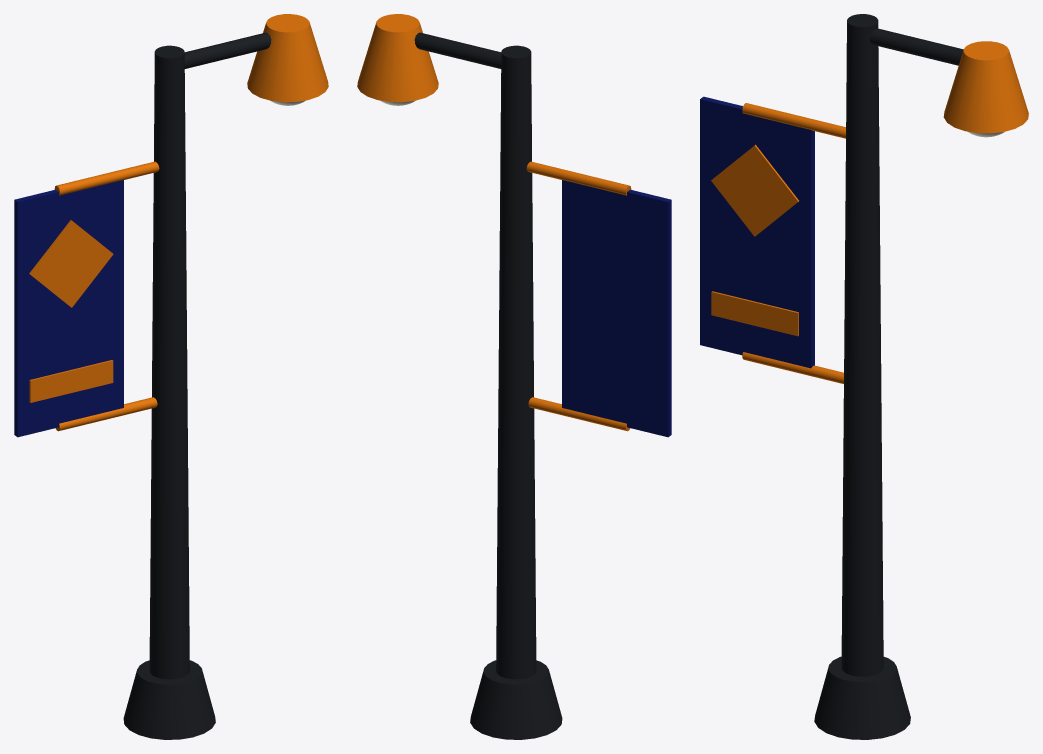
Rendered from lamppost.obj.
3 views of the same model, side by side, from view 1: azimuth 30°, elevation 25°; view 2: azimuth 150°, elevation 25°; view 3: azimuth 330°, elevation 25° (orthographic). The views are drawn at different scales.
Visible parts, largest first — view 1: pole, banner, base, lamp_head, banner_emblem, banner_chevron, arm, banner_arm_top, banner_arm_bot; view 2: banner, pole, base, lamp_head, arm, banner_arm_top, banner_arm_bot; view 3: pole, banner, lamp_head, base, banner_emblem, banner_chevron, arm, banner_arm_top, banner_arm_bot.
Boxes of the visible parts, box(x1,y1,x2,y2) form: pole: box(149, 45, 189, 679); banner: box(14, 180, 123, 437); base: box(123, 660, 215, 739); lamp_head: box(247, 14, 328, 102); banner_emblem: box(29, 220, 113, 307); banner_chevron: box(29, 360, 113, 402); arm: box(184, 32, 271, 68); banner_arm_top: box(54, 161, 159, 195); banner_arm_bot: box(55, 397, 157, 431); banner: box(562, 180, 671, 437); pole: box(496, 45, 536, 679); base: box(470, 660, 562, 739); lamp_head: box(357, 14, 438, 102); arm: box(414, 32, 501, 68); banner_arm_top: box(526, 161, 631, 195); banner_arm_bot: box(528, 397, 630, 431); pole: box(841, 14, 883, 676); banner: box(700, 96, 814, 368); lamp_head: box(943, 41, 1028, 133); base: box(814, 656, 910, 739); banner_emblem: box(711, 144, 798, 236); banner_chevron: box(711, 291, 798, 336); arm: box(870, 28, 963, 65); banner_arm_top: box(742, 103, 845, 138); banner_arm_bot: box(742, 352, 843, 383).
Bounding box in the file's own units: 2.6 × 5.4 × 0.68.
